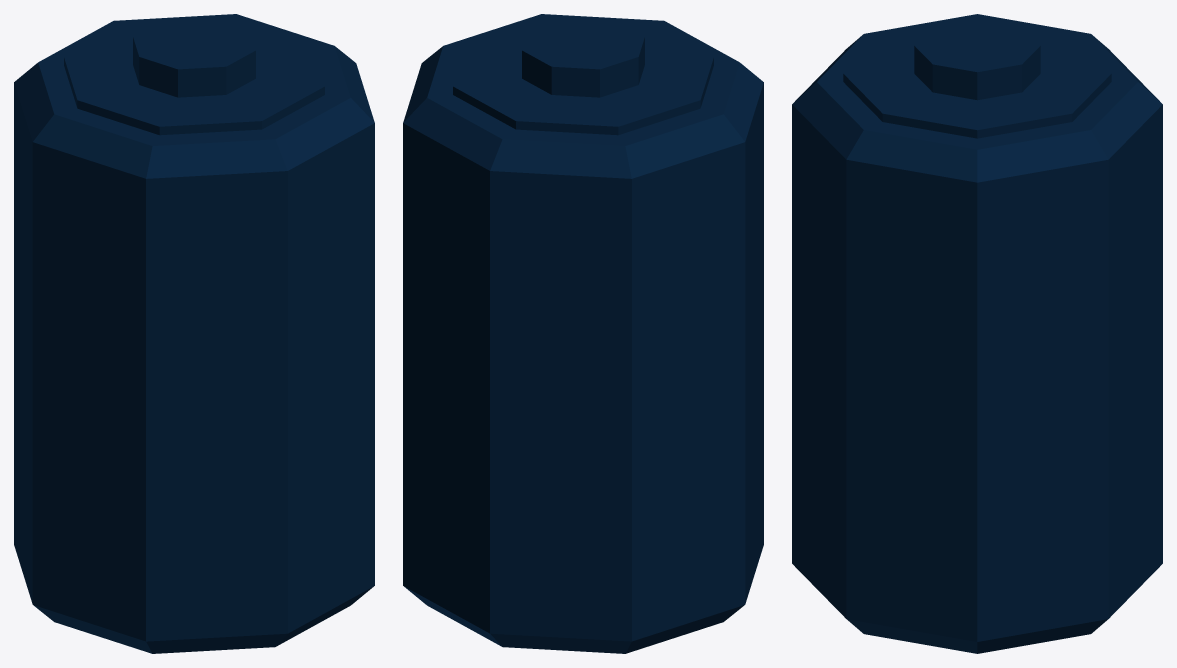
Rendered from Bacteria_Battery.FBX.
3 renders of one model, left to right at view 1: azimuth 30°, elevation 25°; view 2: azimuth 150°, elevation 25°; view 3: azimuth 270°, elevation 25°, orthographic.
Visible parts, largest first — view 1: Cylinder001; view 2: Cylinder001; view 3: Cylinder001.
Part boxes in pixels (bbox=[...]): Cylinder001: bbox=[14, 14, 374, 653]; Cylinder001: bbox=[403, 14, 763, 653]; Cylinder001: bbox=[792, 14, 1162, 653].
Size of the model in its own units: 120 by 120 by 193.
